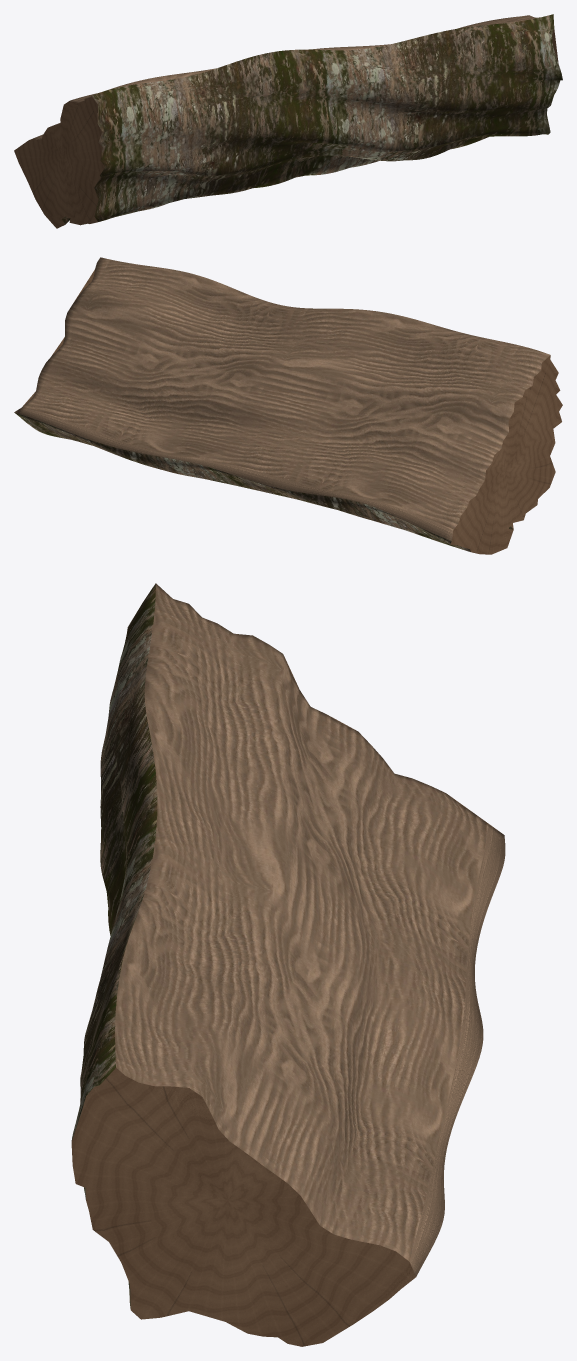
Rendered from ProjectGenesis_Roble_Tronco_V021.glb.
3 views of the same model, one above another, from view 1: azimuth 30°, elevation 25°; view 2: azimuth 150°, elevation 25°; view 3: azimuth 270°, elevation 25° (orthographic). The views are drawn at different scales.
Visible parts, largest first — view 1: ROBLE_V021_original_V019_geometry; view 2: ROBLE_V021_original_V019_geometry; view 3: ROBLE_V021_original_V019_geometry.
Boxes of the visible parts, box(x1,y1,x2,y2) form: ROBLE_V021_original_V019_geometry: box(14, 14, 562, 228); ROBLE_V021_original_V019_geometry: box(14, 257, 562, 554); ROBLE_V021_original_V019_geometry: box(71, 583, 505, 1346).
Bounding box in the file's own units: 1.43 × 0.4902 × 0.5798.
Materials: 3 (3 with a texture image).
